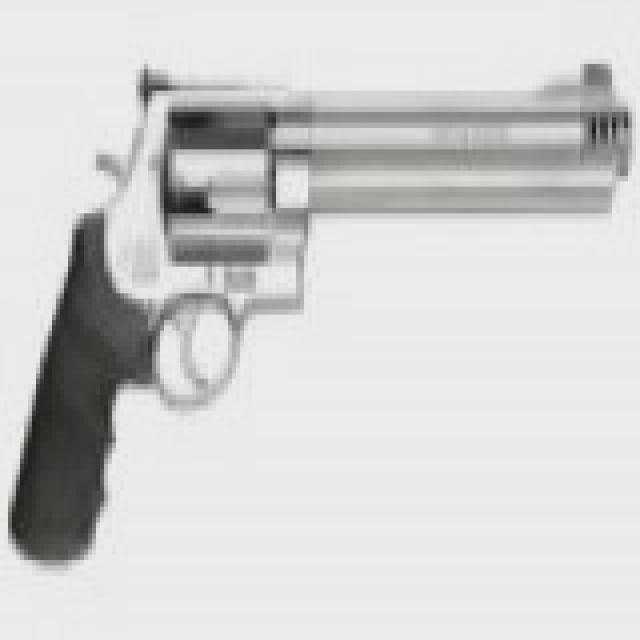pistol: (4, 59, 624, 565)
